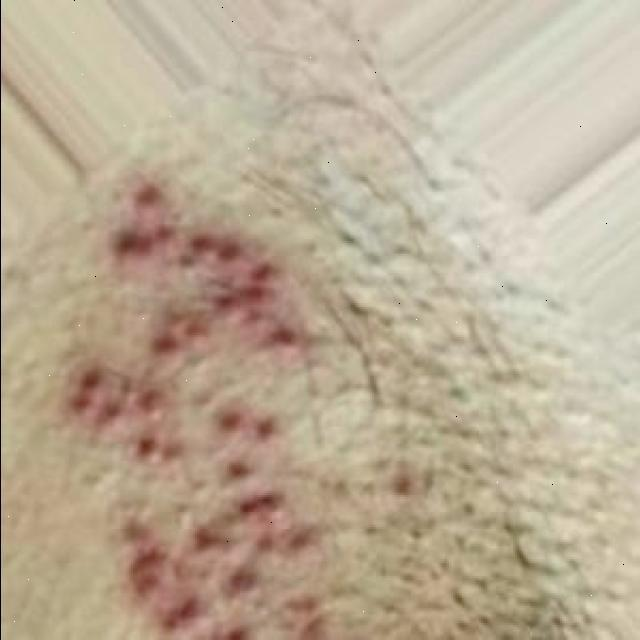Shingles: (68, 175, 338, 640)
